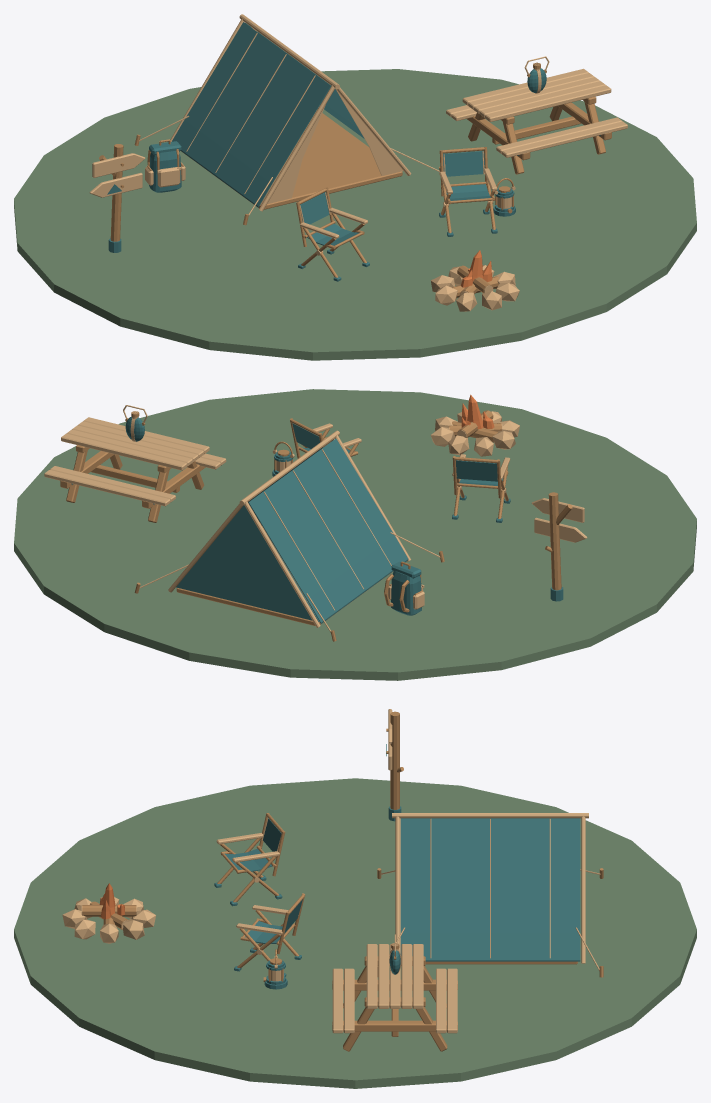
The picture shows the model from 3 angles, top to bottom: view 1: azimuth 30°, elevation 25°; view 2: azimuth 150°, elevation 25°; view 3: azimuth 270°, elevation 25°; orthographic projection. The views are drawn at different scales.
Parts seen in each view (by area): view 1: camping-scene-01; view 2: camping-scene-01; view 3: camping-scene-01.
Part boxes in pixels (left/top/right/bottom): camping-scene-01: left=14, top=14, right=696, bottom=360; camping-scene-01: left=14, top=389, right=696, bottom=680; camping-scene-01: left=14, top=709, right=696, bottom=1088.
Bounding box in the file's own units: 9 × 1.74 × 8.6.
